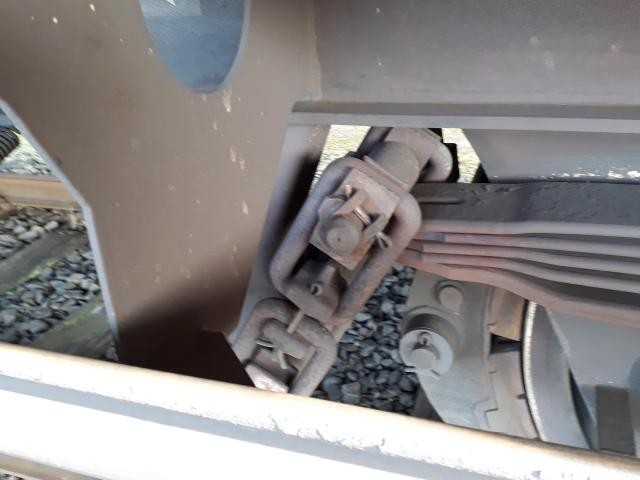blattfederww: (418, 175, 640, 308)
